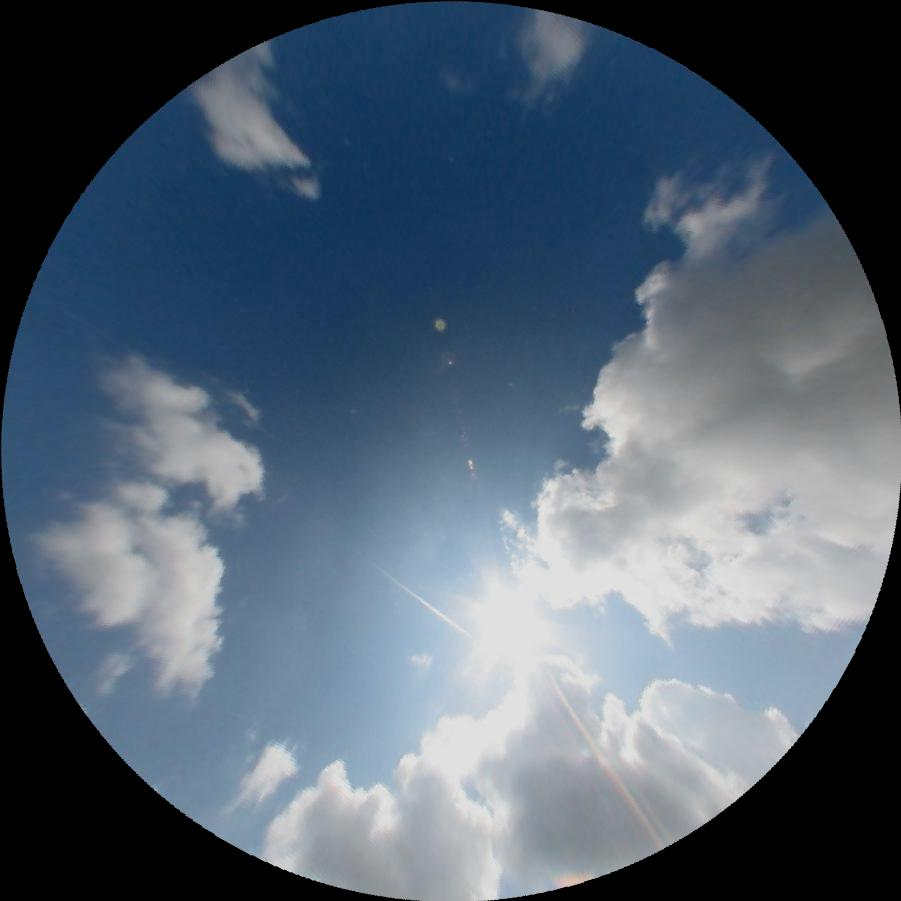contrail young: (364, 557, 470, 637)
sun: (455, 570, 561, 675)
